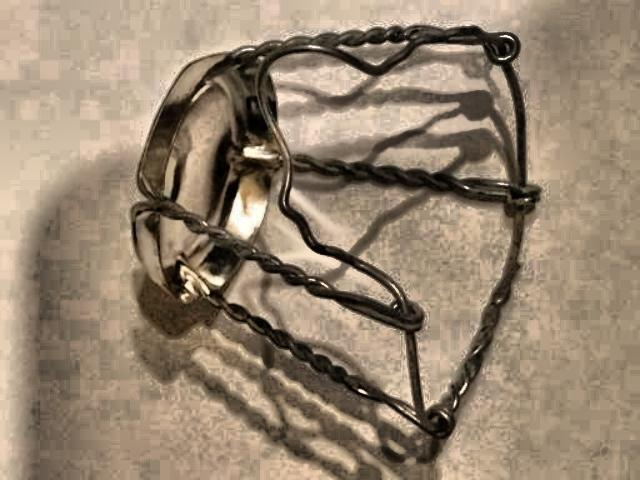Almennt: (117, 5, 549, 478)
